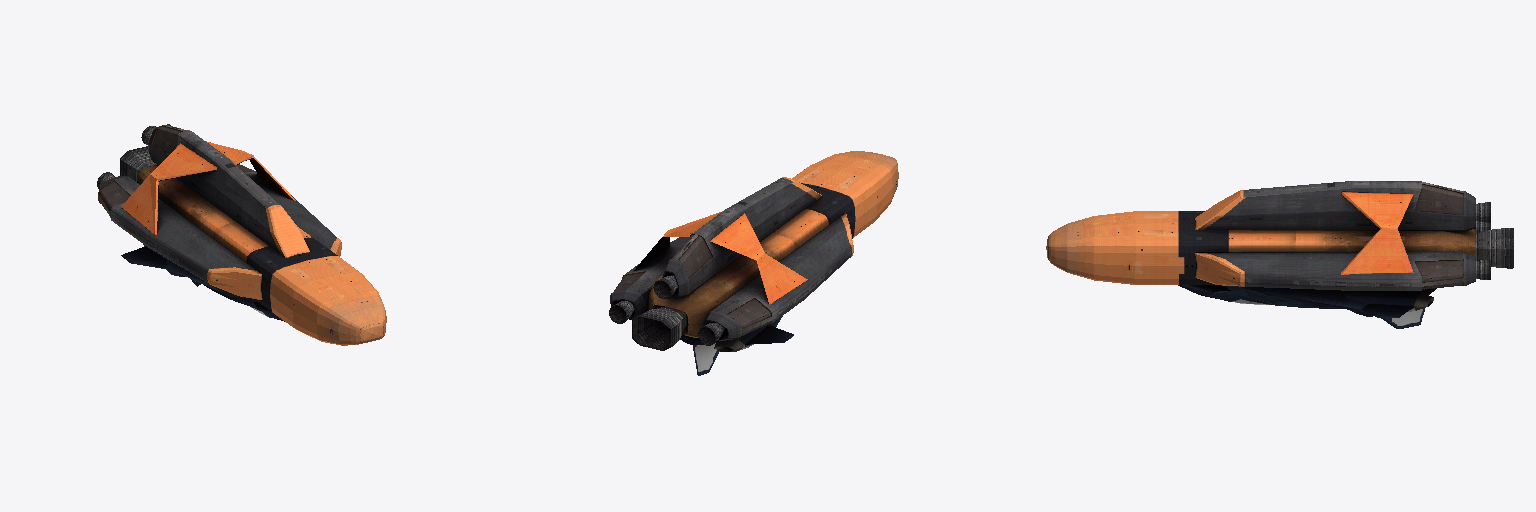
3 views of the same model, side by side, from view 1: azimuth 30°, elevation 25°; view 2: azimuth 150°, elevation 25°; view 3: azimuth 270°, elevation 25° (orthographic).
Visible parts, largest first — view 1: LOD0; view 2: LOD0; view 3: LOD0.
Part boxes in pixels (left/top/right/bottom): LOD0: left=97, top=124, right=386, bottom=345; LOD0: left=609, top=151, right=898, bottom=375; LOD0: left=1046, top=181, right=1513, bottom=328.
Bounding box in the file's own units: 125 × 116 × 334.
1 materials, 1 textured.